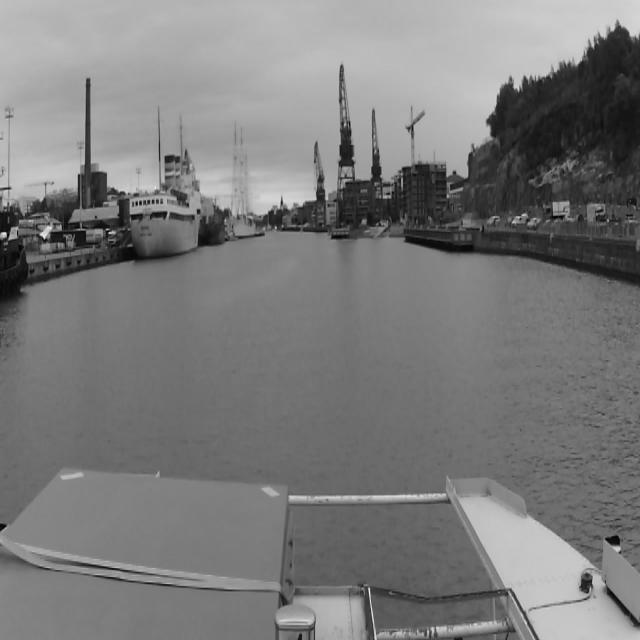ship: (128, 153, 200, 256), (221, 121, 259, 238), (198, 206, 224, 246), (254, 230, 265, 237)
